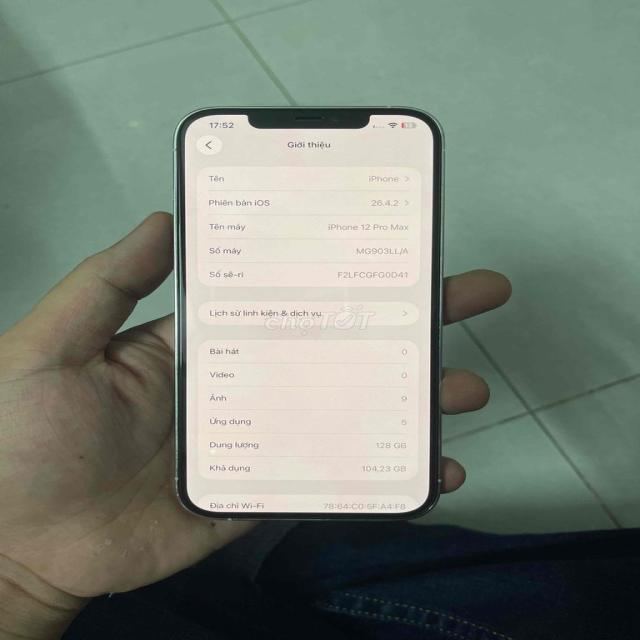gen_12_13: (165, 103, 460, 525)
scratch: (166, 441, 190, 501)
